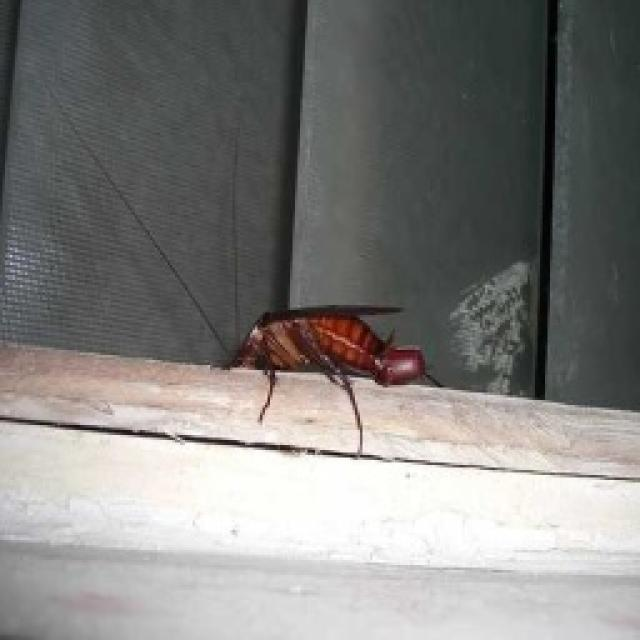cockroach: (219, 301, 442, 459)
